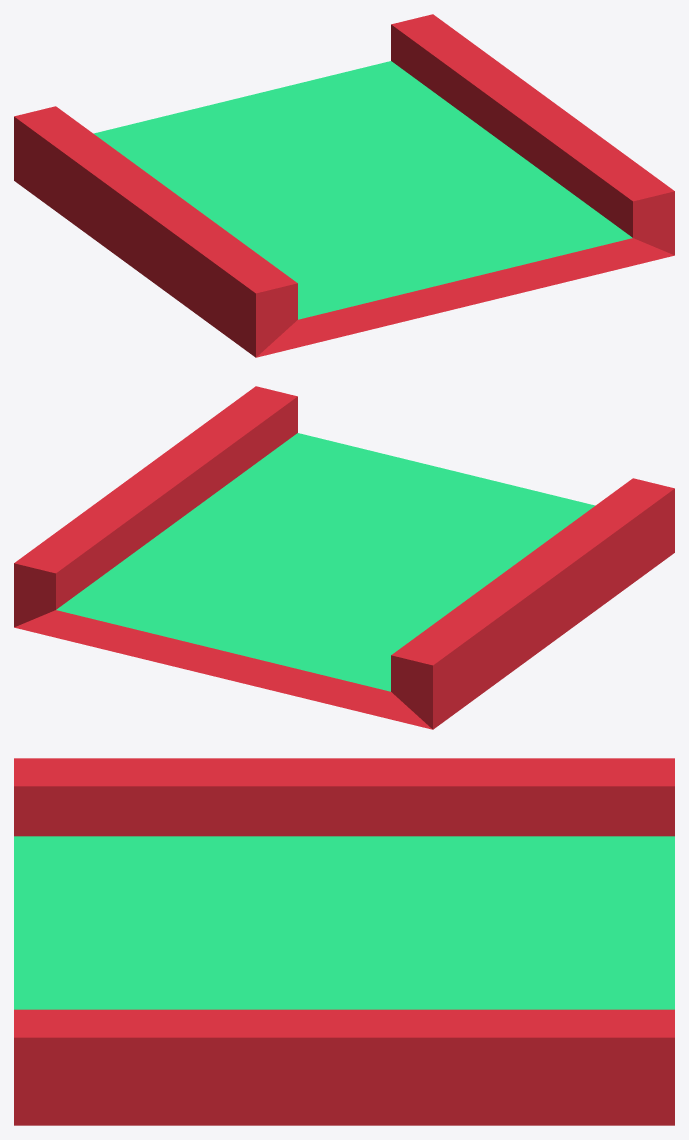
The model's file is straight.fbx.
3 renders of one model, top to bottom at view 1: azimuth 30°, elevation 25°; view 2: azimuth 150°, elevation 25°; view 3: azimuth 270°, elevation 25°, orthographic. The views are drawn at different scales.
Parts seen in each view (by area): view 1: straight; view 2: straight; view 3: straight.
Boxes of the visible parts, box(x1,y1,x2,y2) form: straight: box(14, 14, 674, 357); straight: box(14, 386, 674, 729); straight: box(14, 758, 674, 1125).
Size of the model in its own units: 99.99 by 99.99 by 14.67.
